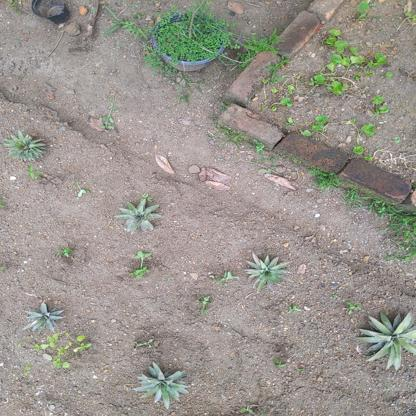pineapple: (348, 307, 416, 373), (131, 359, 194, 409), (239, 249, 291, 291), (112, 196, 166, 235), (3, 129, 54, 163), (20, 298, 68, 333)
weed: (311, 27, 393, 115), (33, 333, 97, 371), (128, 247, 157, 286), (52, 242, 78, 268)
